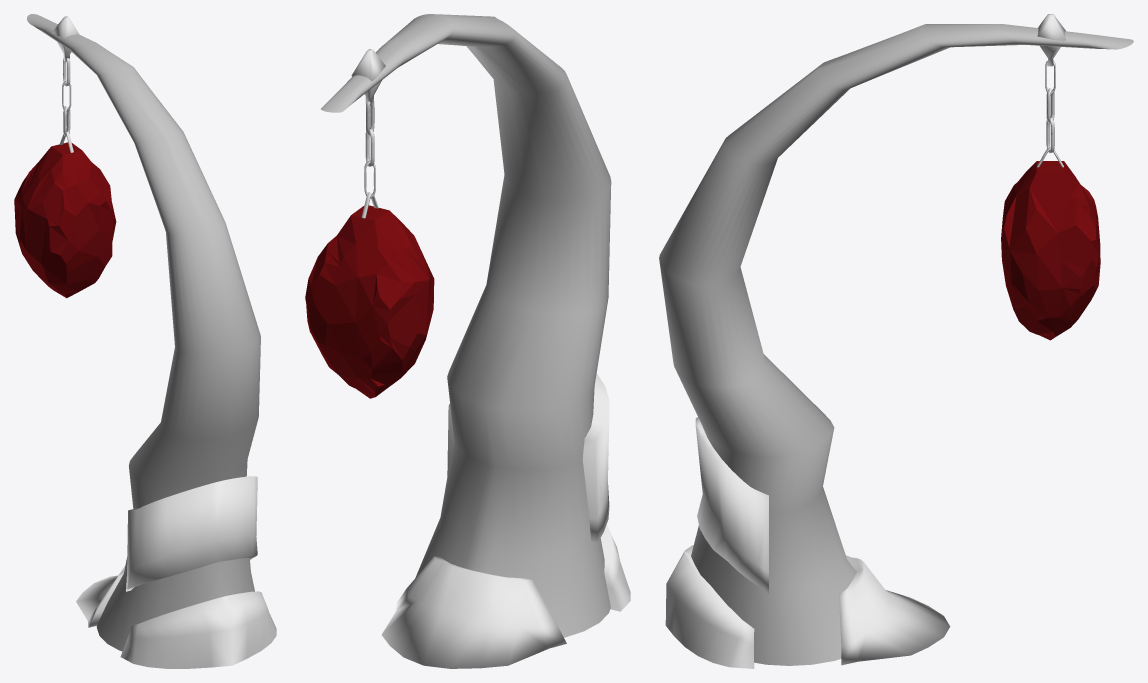
File: Shattered tower.fbx
The picture shows the model from 3 angles, left to right: view 1: azimuth 30°, elevation 25°; view 2: azimuth 150°, elevation 25°; view 3: azimuth 270°, elevation 25°; orthographic projection. The views are drawn at different scales.
Parts seen in each view (by area): view 1: tower, gem.010, gem.002, gem.006, gem.008, gem.001, gem.005; view 2: tower, gem.010, gem.009, gem.007, gem.004, gem.006, gem.003; view 3: tower, gem.010, gem.005, gem.007, gem.003, gem.002.
Part boxes in pixels (x1,y1,x2,y2): tower: [27, 14, 276, 668]; gem.010: [23, 142, 112, 243]; gem.002: [39, 240, 112, 285]; gem.006: [14, 208, 82, 268]; gem.008: [27, 182, 75, 234]; gem.001: [37, 269, 98, 298]; gem.005: [86, 203, 116, 242]; tower: [321, 14, 630, 668]; gem.010: [323, 205, 429, 289]; gem.009: [339, 253, 419, 332]; gem.007: [305, 249, 373, 333]; gem.004: [314, 324, 415, 374]; gem.006: [373, 273, 434, 353]; gem.003: [308, 323, 408, 392]; tower: [659, 14, 1133, 668]; gem.010: [1001, 161, 1089, 258]; gem.005: [1002, 247, 1095, 314]; gem.007: [1055, 208, 1100, 275]; gem.003: [1043, 276, 1098, 326]; gem.002: [1001, 251, 1042, 321].
Size of the model in its own units: 143 by 487 by 342.
